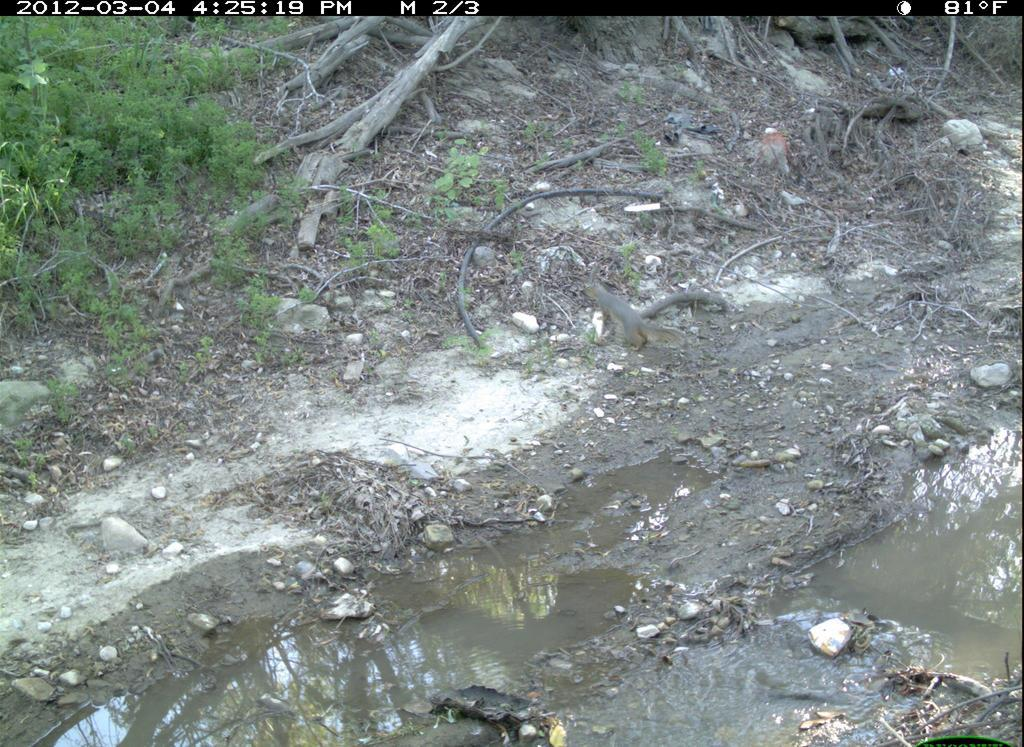squirrel: (569, 259, 699, 359)
